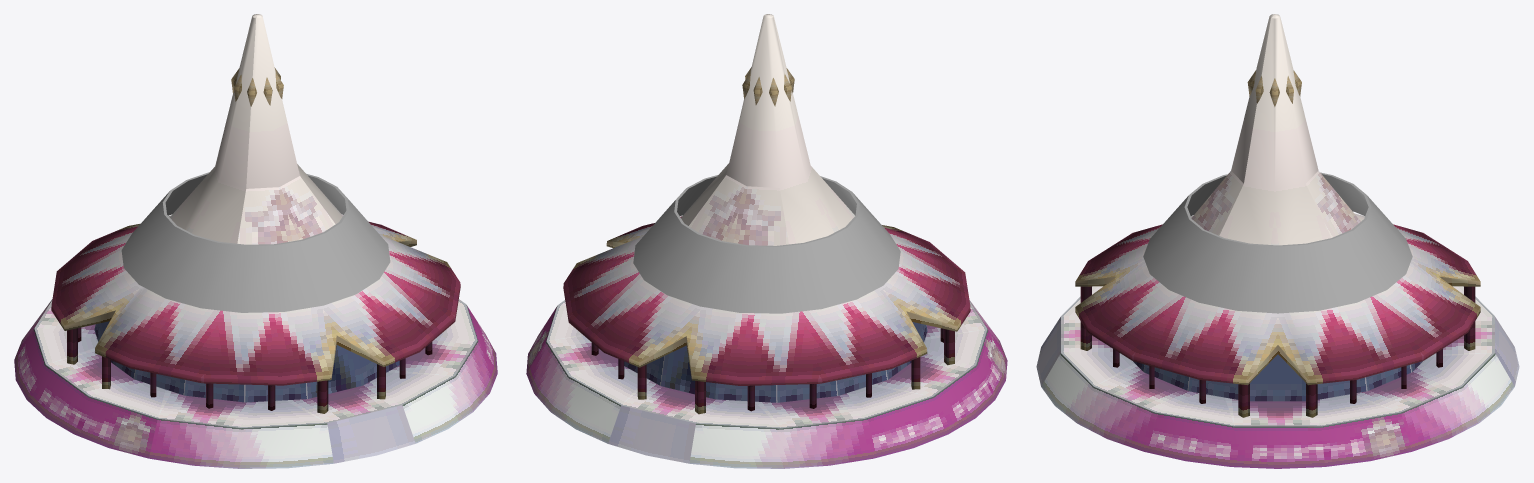
File: NewPoppinTent.fbx
3 views of the same model, side by side, from view 1: azimuth 30°, elevation 25°; view 2: azimuth 150°, elevation 25°; view 3: azimuth 270°, elevation 25° (orthographic).
Parts seen in each view (by area): view 1: poppintent:Mesh, pPipe1; view 2: poppintent:Mesh, pPipe1; view 3: poppintent:Mesh, pPipe1.
Boxes of the visible parts, <box> form: poppintent:Mesh: <box>14,14,497,468</box>; pPipe1: <box>121,172,390,312</box>; poppintent:Mesh: <box>526,14,1007,468</box>; pPipe1: <box>633,175,900,313</box>; poppintent:Mesh: <box>1036,14,1519,468</box>; pPipe1: <box>1143,172,1412,313</box>.
Bounding box in the file's own units: 61.75 × 49.65 × 61.75.
Materials: 3 (2 with a texture image).
